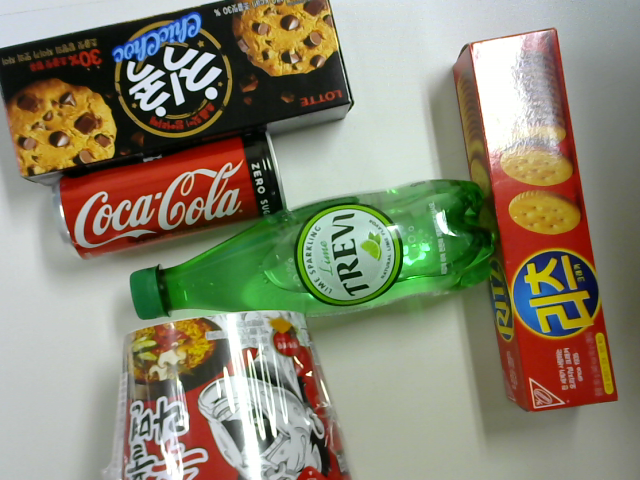Chicchok_Original_2400: (1, 1, 359, 185)
Coca_Cola_Zero_Can_250ml: (44, 118, 295, 261)
Hejangpul: (109, 304, 355, 480)
Ritz_Cracker: (447, 22, 622, 422)
Treviraim_500ml: (114, 179, 504, 346)
